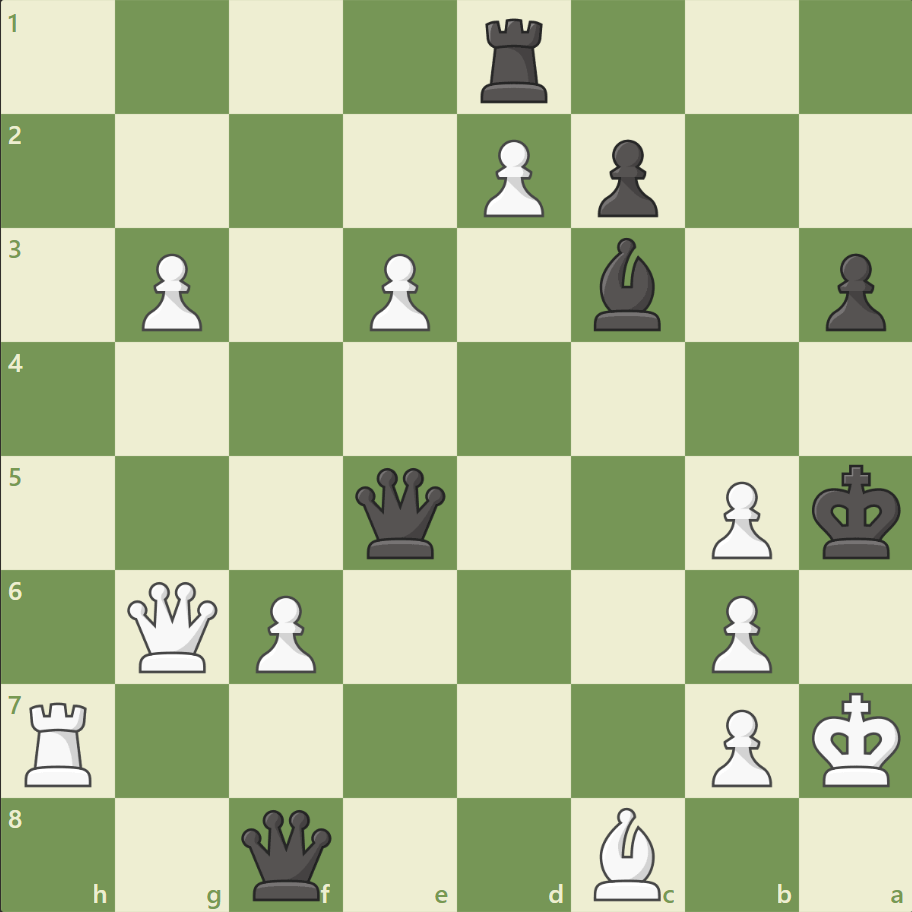B: (585, 801, 669, 904)
K: (806, 685, 906, 793)
P: (701, 700, 776, 791), (701, 586, 776, 677), (247, 586, 322, 677), (701, 473, 776, 564), (133, 246, 208, 337), (474, 132, 549, 223), (361, 246, 435, 337)
Q: (124, 576, 223, 676)
R: (19, 693, 102, 790)
b: (585, 233, 669, 336)
k: (806, 458, 906, 566)
p: (815, 246, 889, 337), (588, 132, 662, 223)
q: (237, 804, 336, 903), (351, 463, 450, 562)
r: (473, 12, 556, 109)
